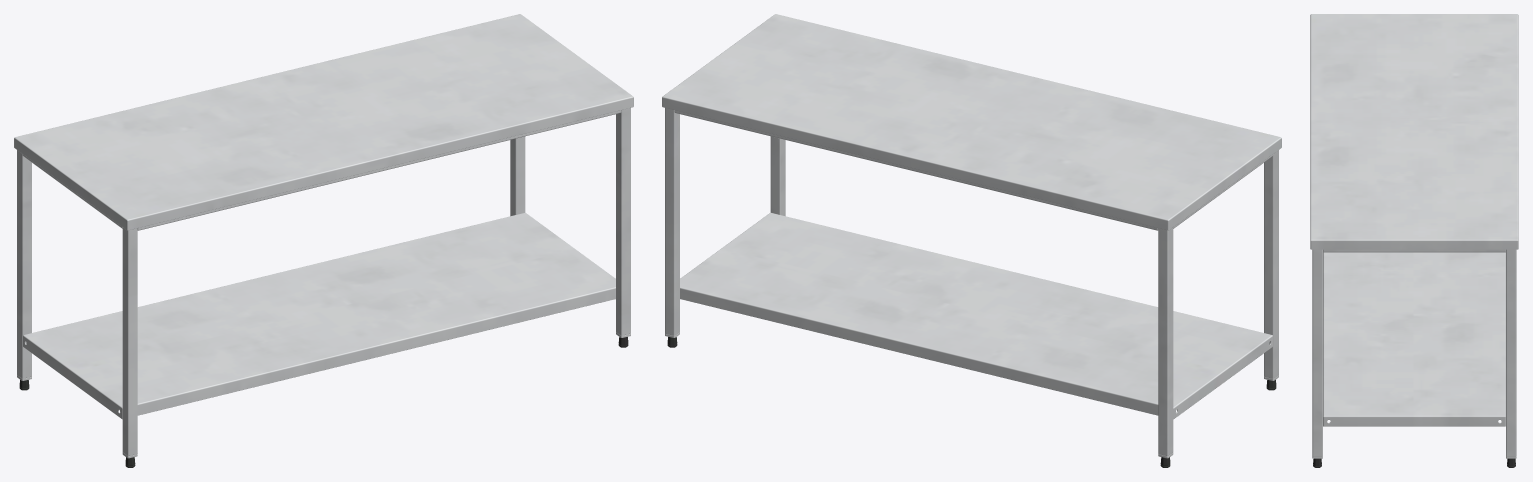
The model's file is steel_table.glb.
The picture shows the model from 3 angles, left to right: view 1: azimuth 30°, elevation 25°; view 2: azimuth 150°, elevation 25°; view 3: azimuth 270°, elevation 25°; orthographic projection. The views are drawn at different scales.
Parts seen in each view (by area): view 1: body; view 2: body; view 3: body.
Boxes of the visible parts, x1=… form: body: x1=14, y1=14, x2=633, y2=467; body: x1=662, y1=14, x2=1281, y2=467; body: x1=1310, y1=14, x2=1518, y2=467.
Size of the model in its own units: 1.8 by 0.85 by 0.6988.
2 materials, 2 textured.
